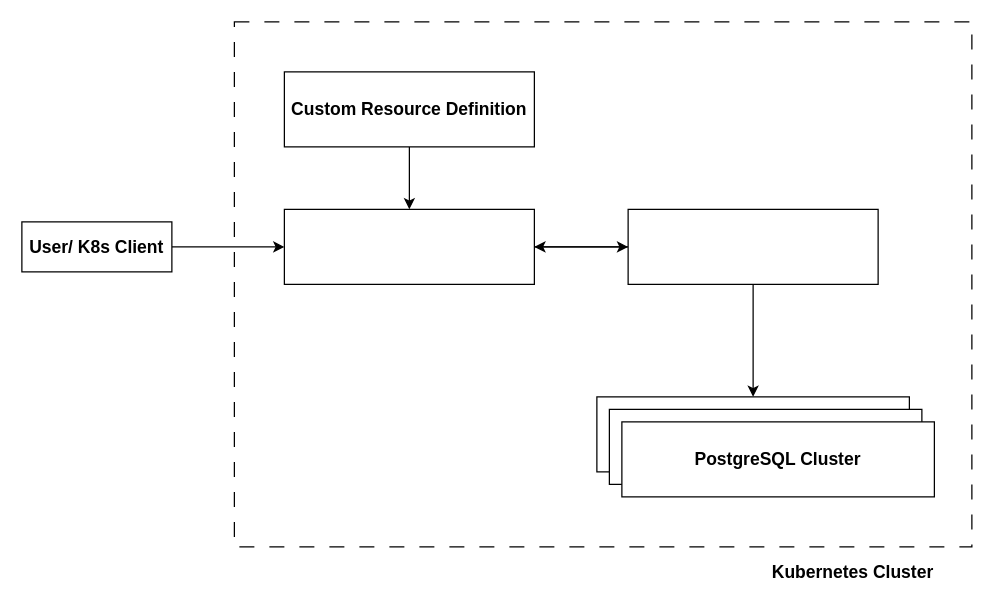
This 994x613 diagram has some shape labels left out. Here are the shapes that lost their labels. From the top down, the centre of each, then its label:
point (408, 246): Custom Resources
point (752, 246): Operator
